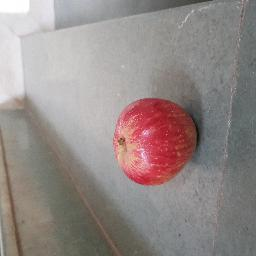Good_apple: (112, 95, 201, 186)
